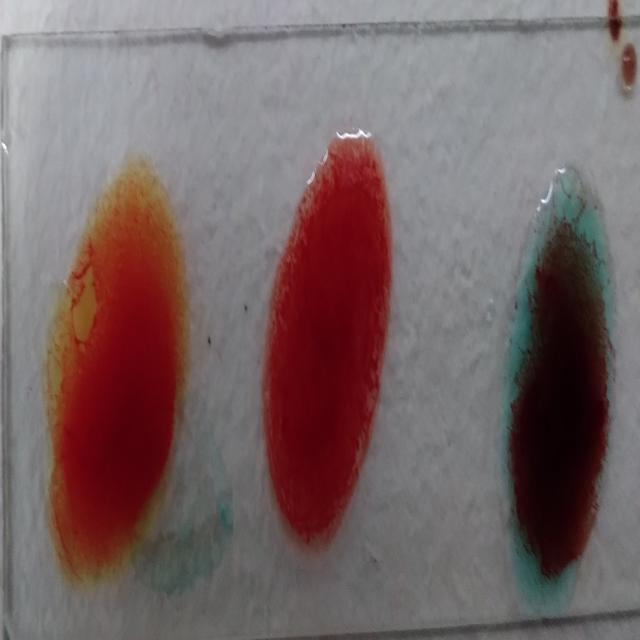A: (499, 164, 613, 608)
B: (51, 168, 185, 593)
D: (263, 116, 394, 552)
